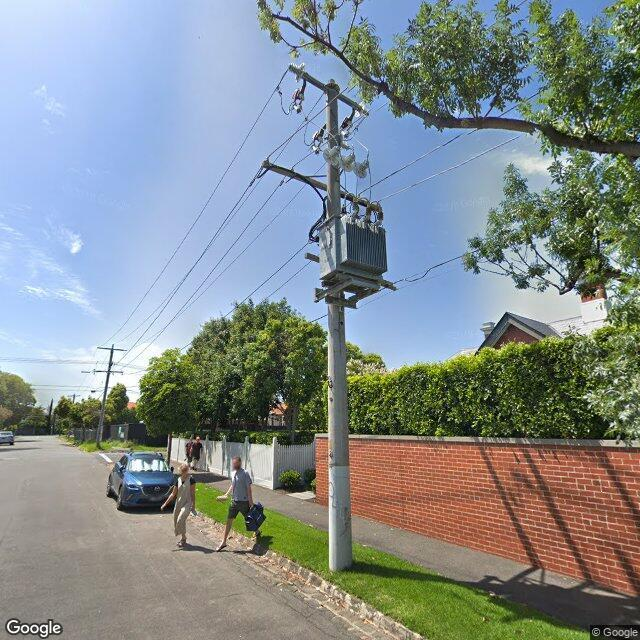HV-transmission: (279, 62, 370, 179)
crossarm: (250, 156, 383, 213), (304, 252, 396, 291), (303, 72, 363, 115), (96, 346, 128, 352), (95, 369, 124, 375), (68, 394, 80, 397)
streetlight: (81, 370, 94, 374)
timber-pole: (325, 84, 353, 573), (96, 344, 115, 447), (72, 393, 76, 403)
transformer: (319, 190, 387, 305)
